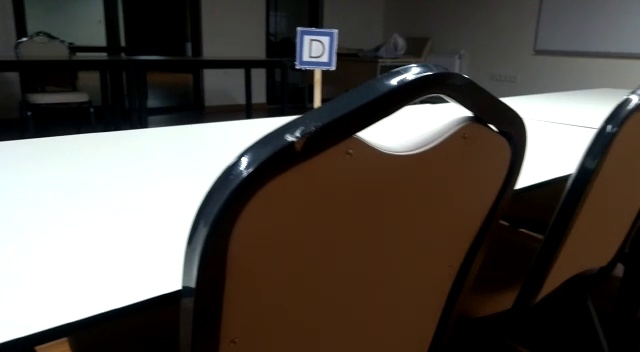durak: (295, 28, 340, 70)
